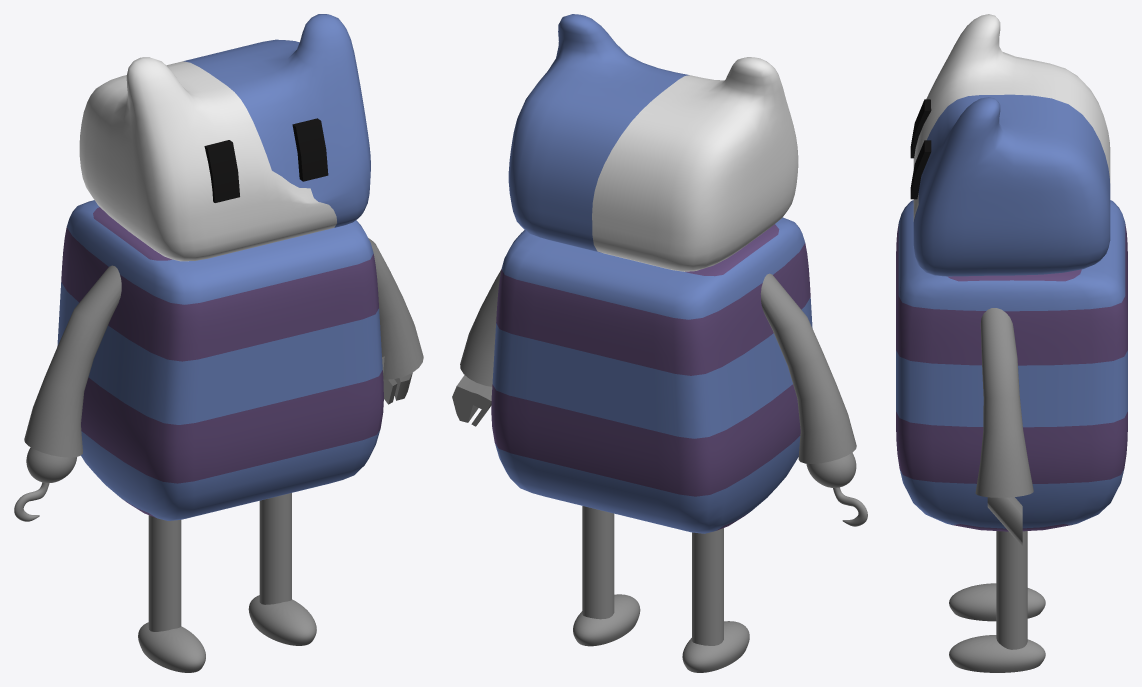
Rendered from jamcharacter.fbx.
3 renders of one model, left to right at view 1: azimuth 30°, elevation 25°; view 2: azimuth 150°, elevation 25°; view 3: azimuth 270°, elevation 25°, orthographic. The views are drawn at different scales.
Visible parts, largest first — view 1: torso, head, rightarm, rightleg, leftarm, leftleg, leftfoot, rightfoot, lefteye, right_eye, righthand, lefthand; view 2: torso, head, rightarm, rightleg, leftleg, leftarm, leftfoot, rightfoot, lefthand, righthand; view 3: torso, head, leftarm, leftleg, leftfoot, rightfoot, lefthand, lefteye, right_eye.
Boxes of the visible parts, left/top/right/bottom form: torso: left=57, top=200, right=383, bottom=520; head: left=79, top=14, right=370, bottom=261; rightarm: left=24, top=265, right=121, bottom=457; rightleg: left=148, top=515, right=181, bottom=631; leftarm: left=368, top=238, right=423, bottom=379; leftleg: left=259, top=493, right=291, bottom=604; leftfoot: left=248, top=595, right=316, bottom=645; rightfoot: left=138, top=622, right=205, bottom=672; lefteye: left=292, top=118, right=328, bottom=181; right_eye: left=204, top=140, right=239, bottom=202; righthand: left=26, top=447, right=76, bottom=482; lefthand: left=382, top=356, right=412, bottom=404; torso: left=491, top=217, right=812, bottom=533; head: left=508, top=14, right=798, bottom=271; rightarm: left=760, top=273, right=856, bottom=463; rightleg: left=692, top=528, right=723, bottom=645; leftleg: left=582, top=506, right=614, bottom=619; leftarm: left=460, top=270, right=501, bottom=386; leftfoot: left=573, top=594, right=640, bottom=646; rightfoot: left=682, top=621, right=749, bottom=672; lefthand: left=452, top=375, right=492, bottom=426; righthand: left=806, top=452, right=856, bottom=487; torso: left=896, top=200, right=1127, bottom=531; head: left=913, top=14, right=1110, bottom=276; leftarm: left=975, top=308, right=1033, bottom=497; leftleg: left=996, top=531, right=1027, bottom=649; leftfoot: left=949, top=635, right=1045, bottom=672; rightfoot: left=949, top=583, right=1045, bottom=621; lefthand: left=987, top=497, right=1022, bottom=546; lefteye: left=910, top=140, right=931, bottom=199; right_eye: left=910, top=99, right=931, bottom=158.
Bounding box in the file's own units: 6.53 × 9.27 × 3.36.
